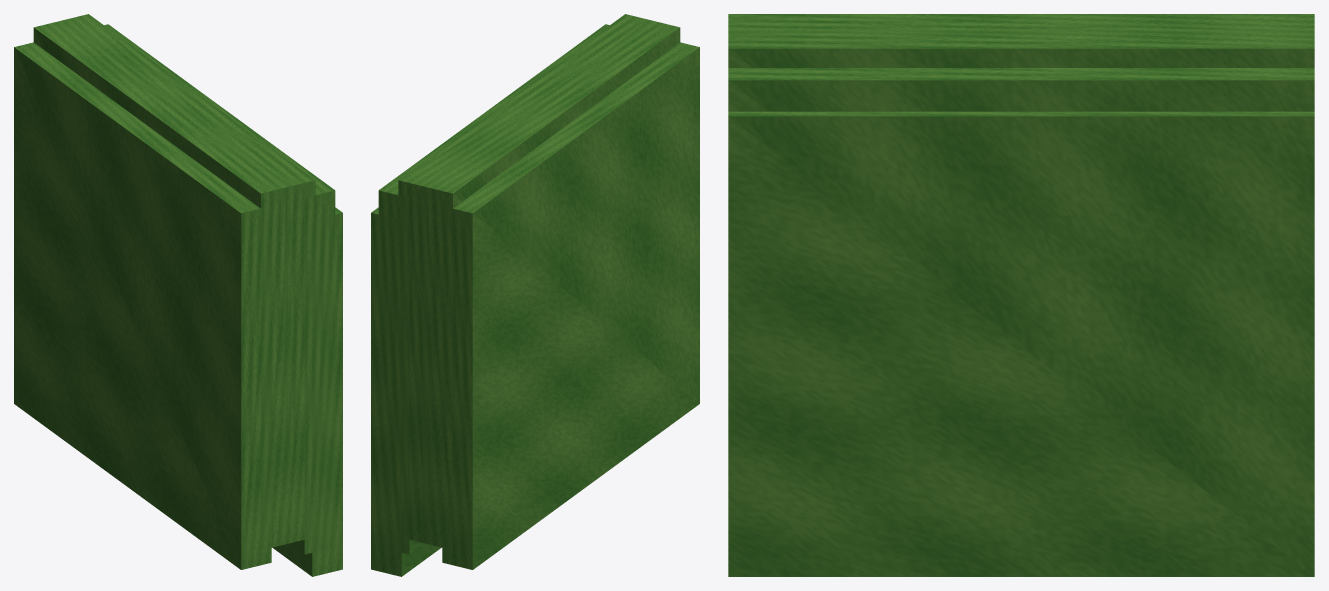
Rendered from SM_ShGrassClump.obj.
3 renders of one model, left to right at view 1: azimuth 30°, elevation 25°; view 2: azimuth 150°, elevation 25°; view 3: azimuth 270°, elevation 25°, orthographic. The views are drawn at different scales.
Parts seen in each view (by area): view 1: SM_ShGrassClump; view 2: SM_ShGrassClump; view 3: SM_ShGrassClump.
Boxes of the visible parts, x1,y1,x2,y2 form: SM_ShGrassClump: (14,14,342,576); SM_ShGrassClump: (371,14,699,576); SM_ShGrassClump: (728,14,1314,576).
Bounding box in the file's own units: 23.28 × 86.56 × 90.
1 material, 1 textured.
